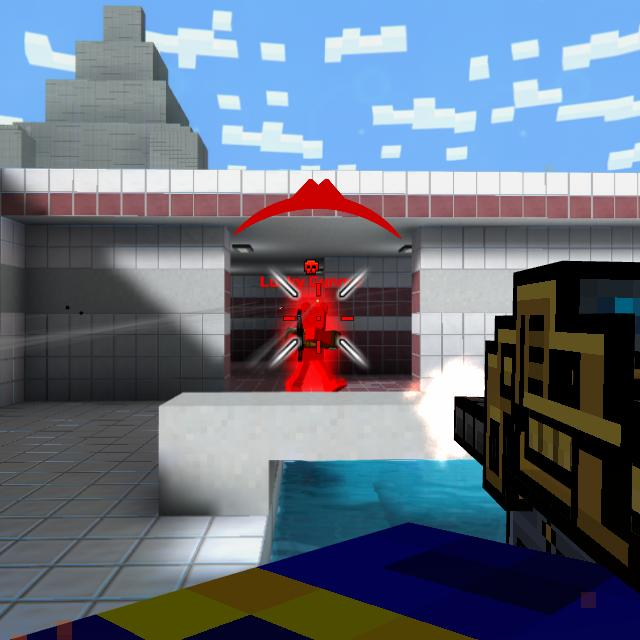Enemy: (287, 303, 344, 392)
